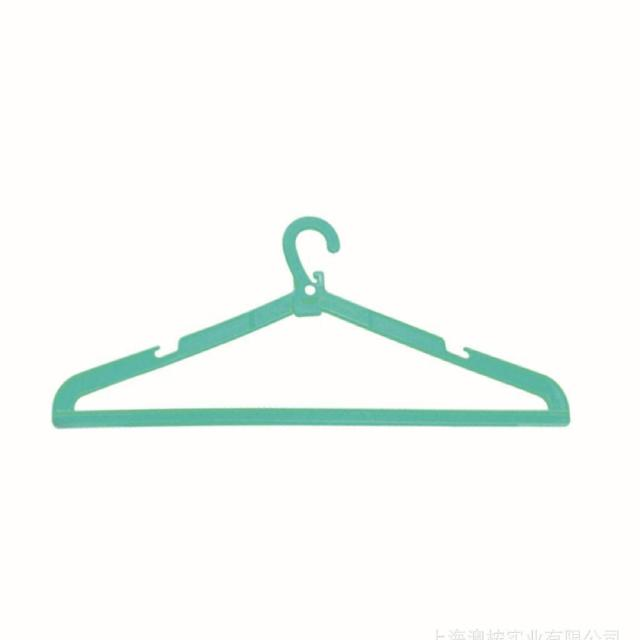inorganic: (25, 193, 626, 453)
